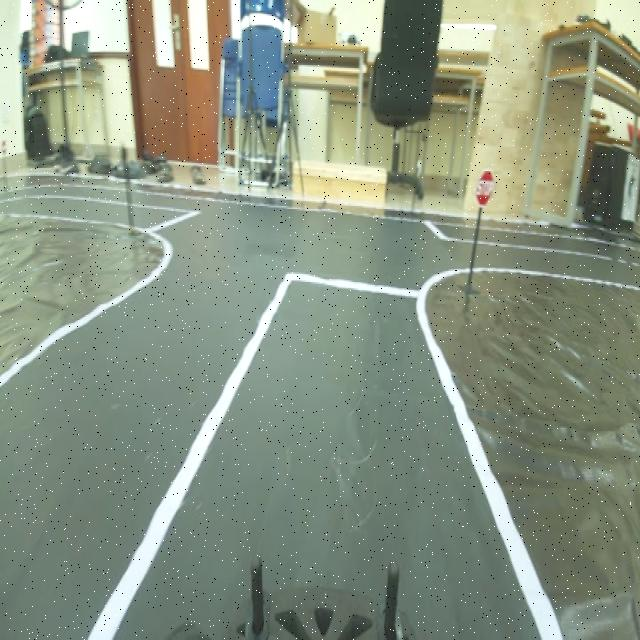stop: (472, 163, 498, 211)
